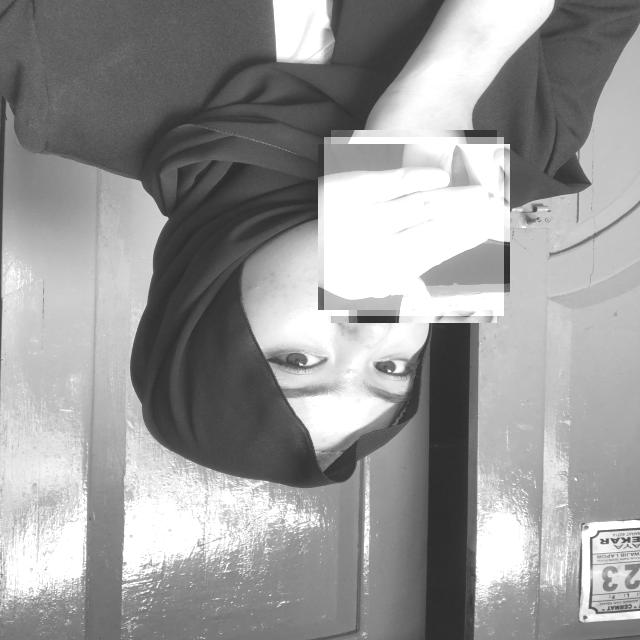ngantuk: (324, 137, 504, 316)
